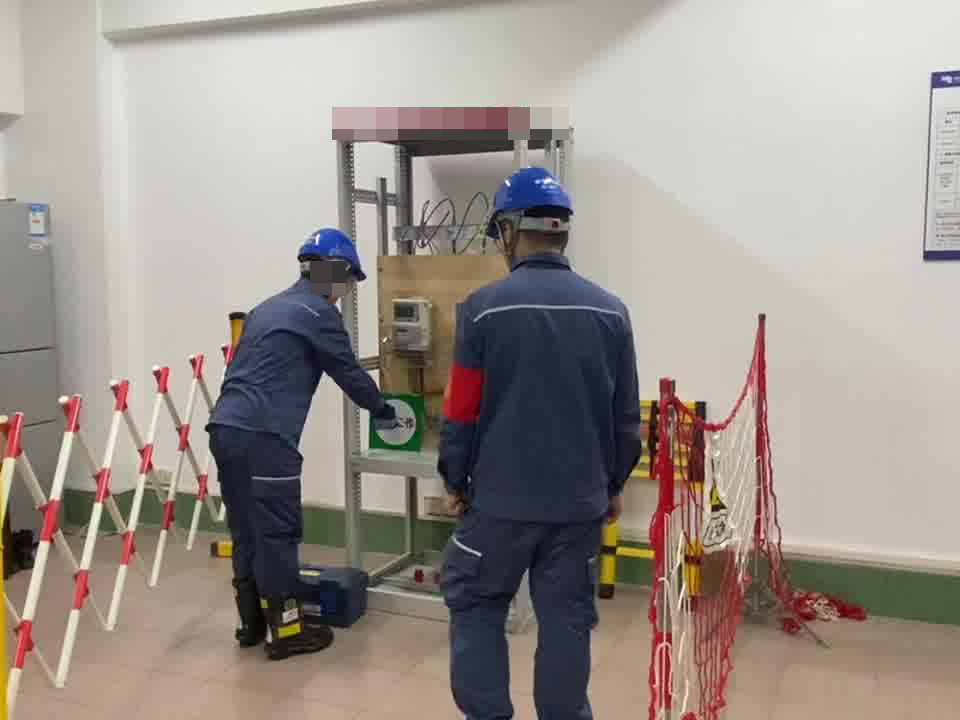badge: (441, 362, 487, 425)
downsuit: (440, 527, 605, 720), (209, 433, 312, 582)
halt: (481, 165, 578, 271), (296, 226, 368, 306)
hand: (599, 493, 625, 523), (444, 490, 469, 515)
inear: (497, 213, 522, 258), (322, 256, 347, 300)
person: (430, 161, 644, 720), (207, 224, 396, 663)
shoe: (226, 577, 341, 660)
upsuit: (436, 259, 642, 521), (211, 279, 393, 428)
worksign: (367, 388, 427, 454)
